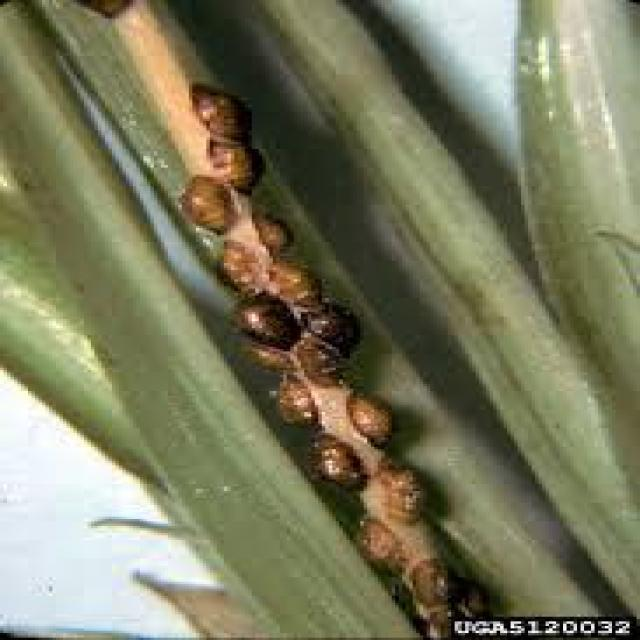BlackScale: (178, 84, 482, 626)
